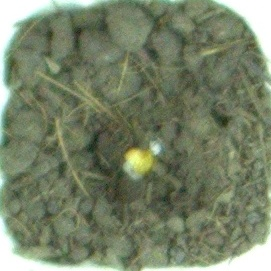pepper seed: (49, 61, 203, 236)
